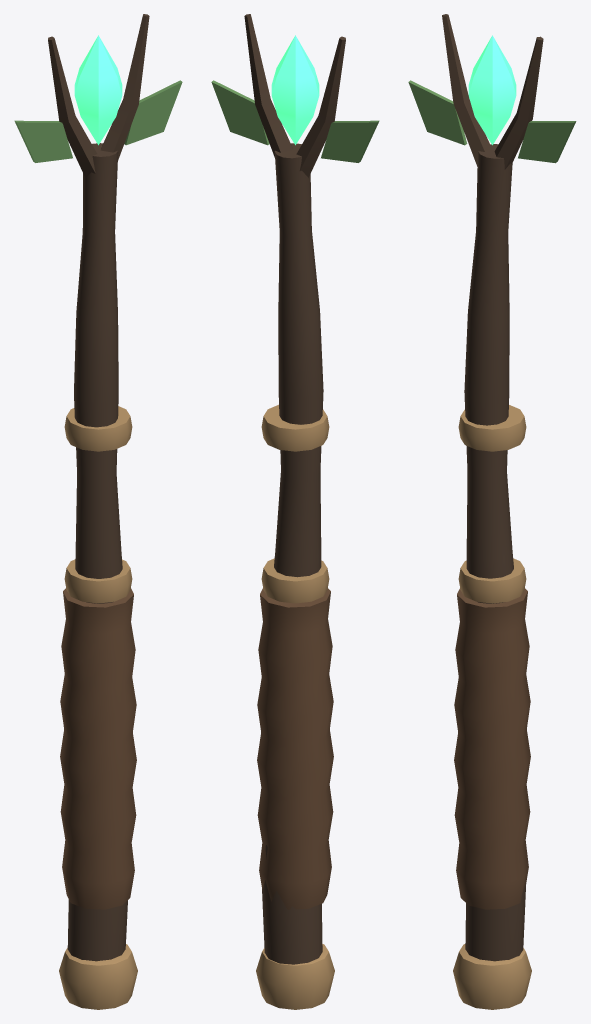
File: depth_sporebud_wand.glb
The picture shows the model from 3 angles, left to right: view 1: azimuth 30°, elevation 25°; view 2: azimuth 150°, elevation 25°; view 3: azimuth 330°, elevation 25°; orthographic projection.
Visible parts, largest first — view 1: depth_sporebud_wand; view 2: depth_sporebud_wand; view 3: depth_sporebud_wand.
Boxes of the visible parts, x1=… form: depth_sporebud_wand: x1=14, y1=14, x2=182, y2=1009; depth_sporebud_wand: x1=211, y1=14, x2=379, y2=1009; depth_sporebud_wand: x1=408, y1=14, x2=576, y2=1009.
Size of the model in its own units: 0.0629 by 0.3552 by 0.026.
